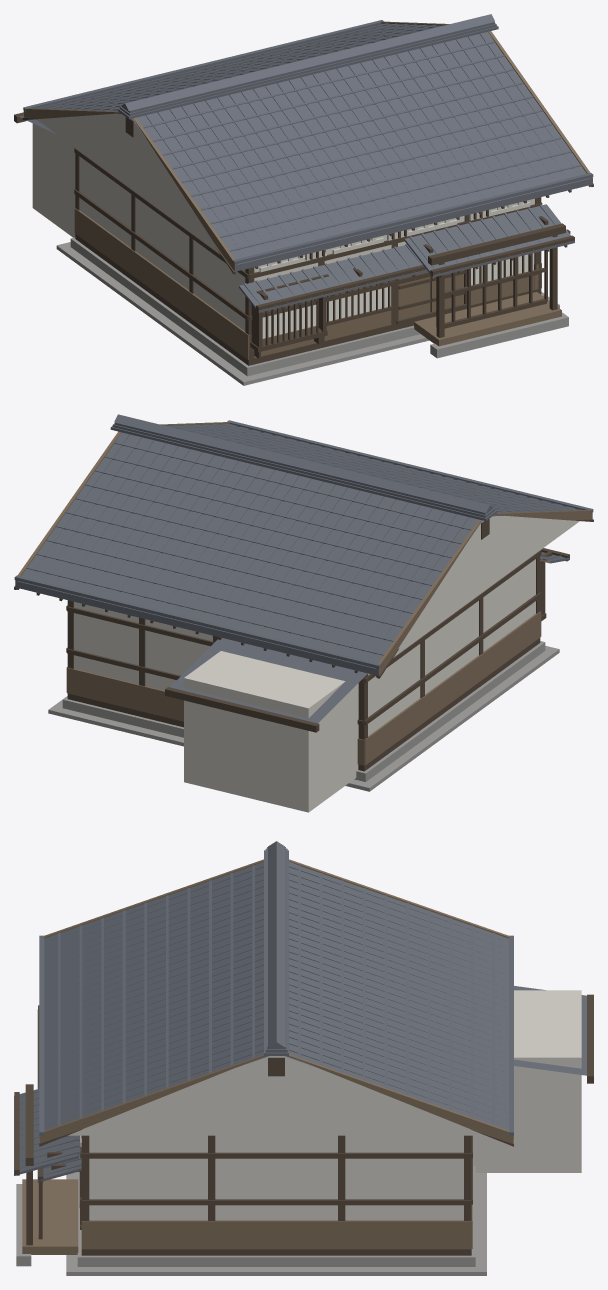
File: family_standard_machiya_01.glb
3 views of the same model, one above another, from view 1: azimuth 30°, elevation 25°; view 2: azimuth 150°, elevation 25°; view 3: azimuth 270°, elevation 25° (orthographic). The views are drawn at different scales.
Parts seen in each view (by area): view 1: family_standard_machiya_01; view 2: family_standard_machiya_01; view 3: family_standard_machiya_01.
Part boxes in pixels (box(x1,y1,x2,y2)): family_standard_machiya_01: box(14, 14, 593, 385); family_standard_machiya_01: box(14, 414, 593, 812); family_standard_machiya_01: box(14, 841, 593, 1275).
Size of the model in its own units: 9.6 by 5.47 by 11.61.
